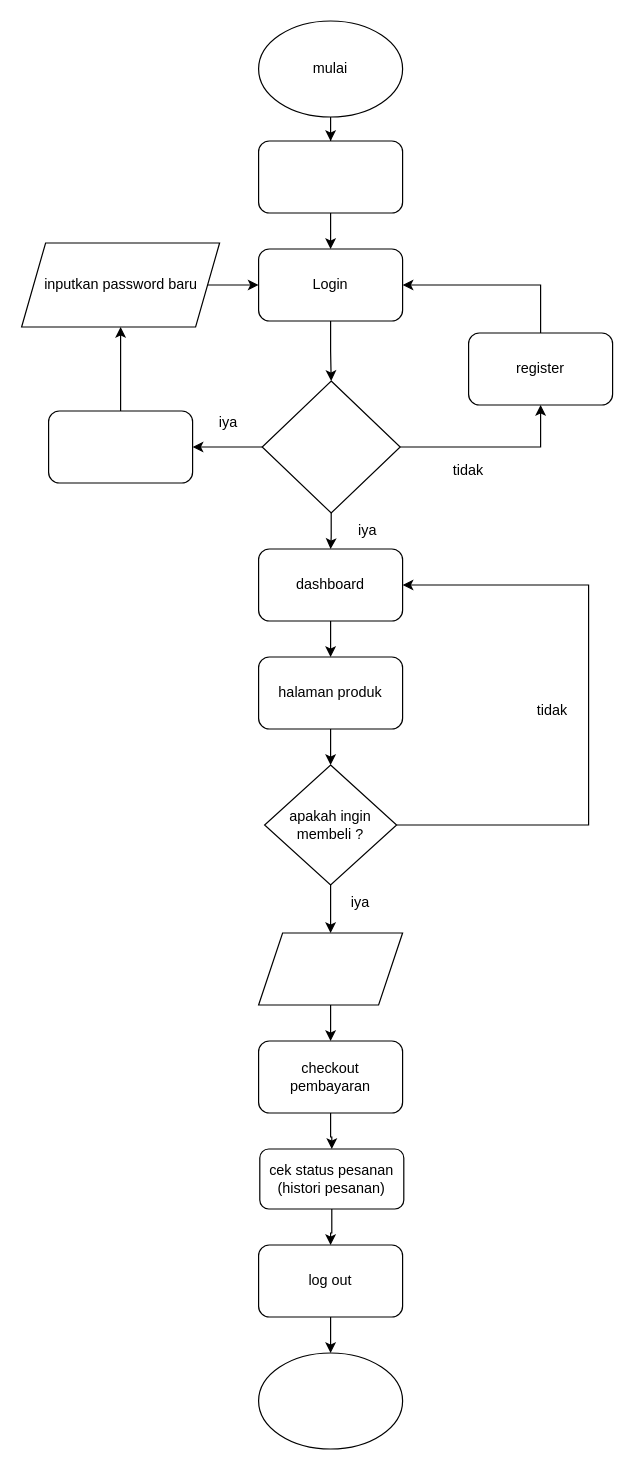
Image size: 634x1470. Some labels were removed from this diagram. Here are the shapes that lost their labels. From the top down, the centre of each, then its label:
At (x=330, y=176): "landing page".
At (x=120, y=446): "lupa pasword".
At (x=330, y=446): "punya akun ?".
At (x=330, y=968): "tambahkan ke keranjang".
At (x=330, y=1400): "selesai".
